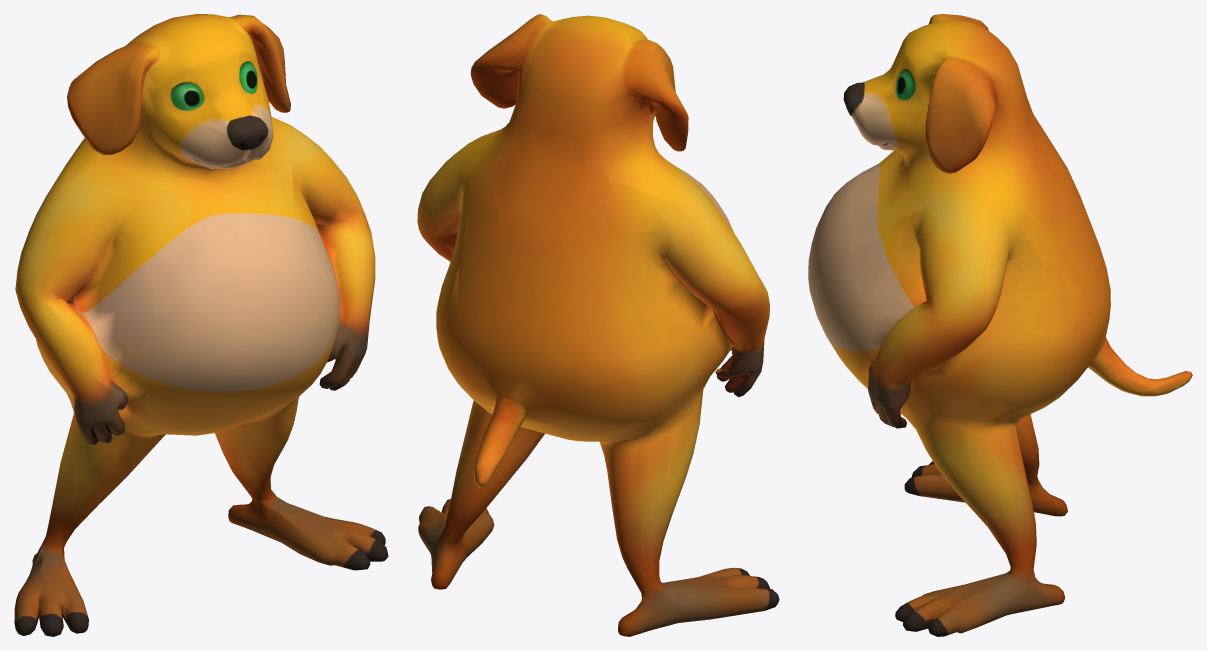
The picture shows the model from 3 angles, left to right: view 1: azimuth 30°, elevation 25°; view 2: azimuth 150°, elevation 25°; view 3: azimuth 270°, elevation 25°; orthographic projection. The views are drawn at different scales.
Parts seen in each view (by area): view 1: tripo_node_5dd3319c; view 2: tripo_node_5dd3319c; view 3: tripo_node_5dd3319c.
Boxes of the visible parts, x1,y1,x2,y2 form: tripo_node_5dd3319c: (14,14,388,636); tripo_node_5dd3319c: (417,14,779,636); tripo_node_5dd3319c: (808,14,1192,636).
Bounding box in the file's own units: 0.6781 × 0.9999 × 0.659.
Materials: 1 (1 with a texture image).
